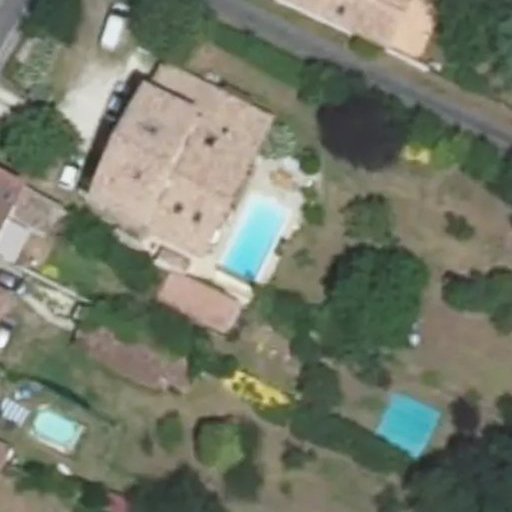pool: (217, 197, 284, 286), (373, 395, 444, 457), (32, 410, 76, 446)
